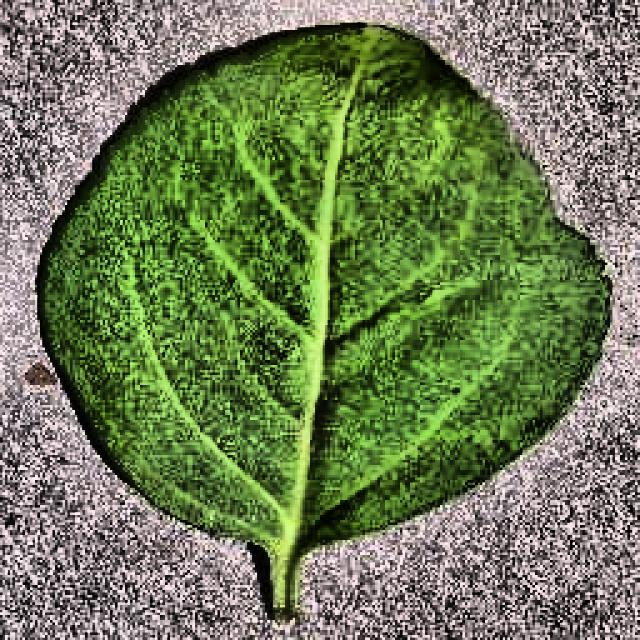healthy: (42, 25, 608, 615)
